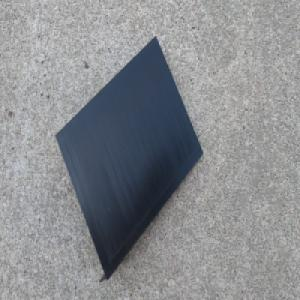PlasticPart: (54, 35, 203, 280)
